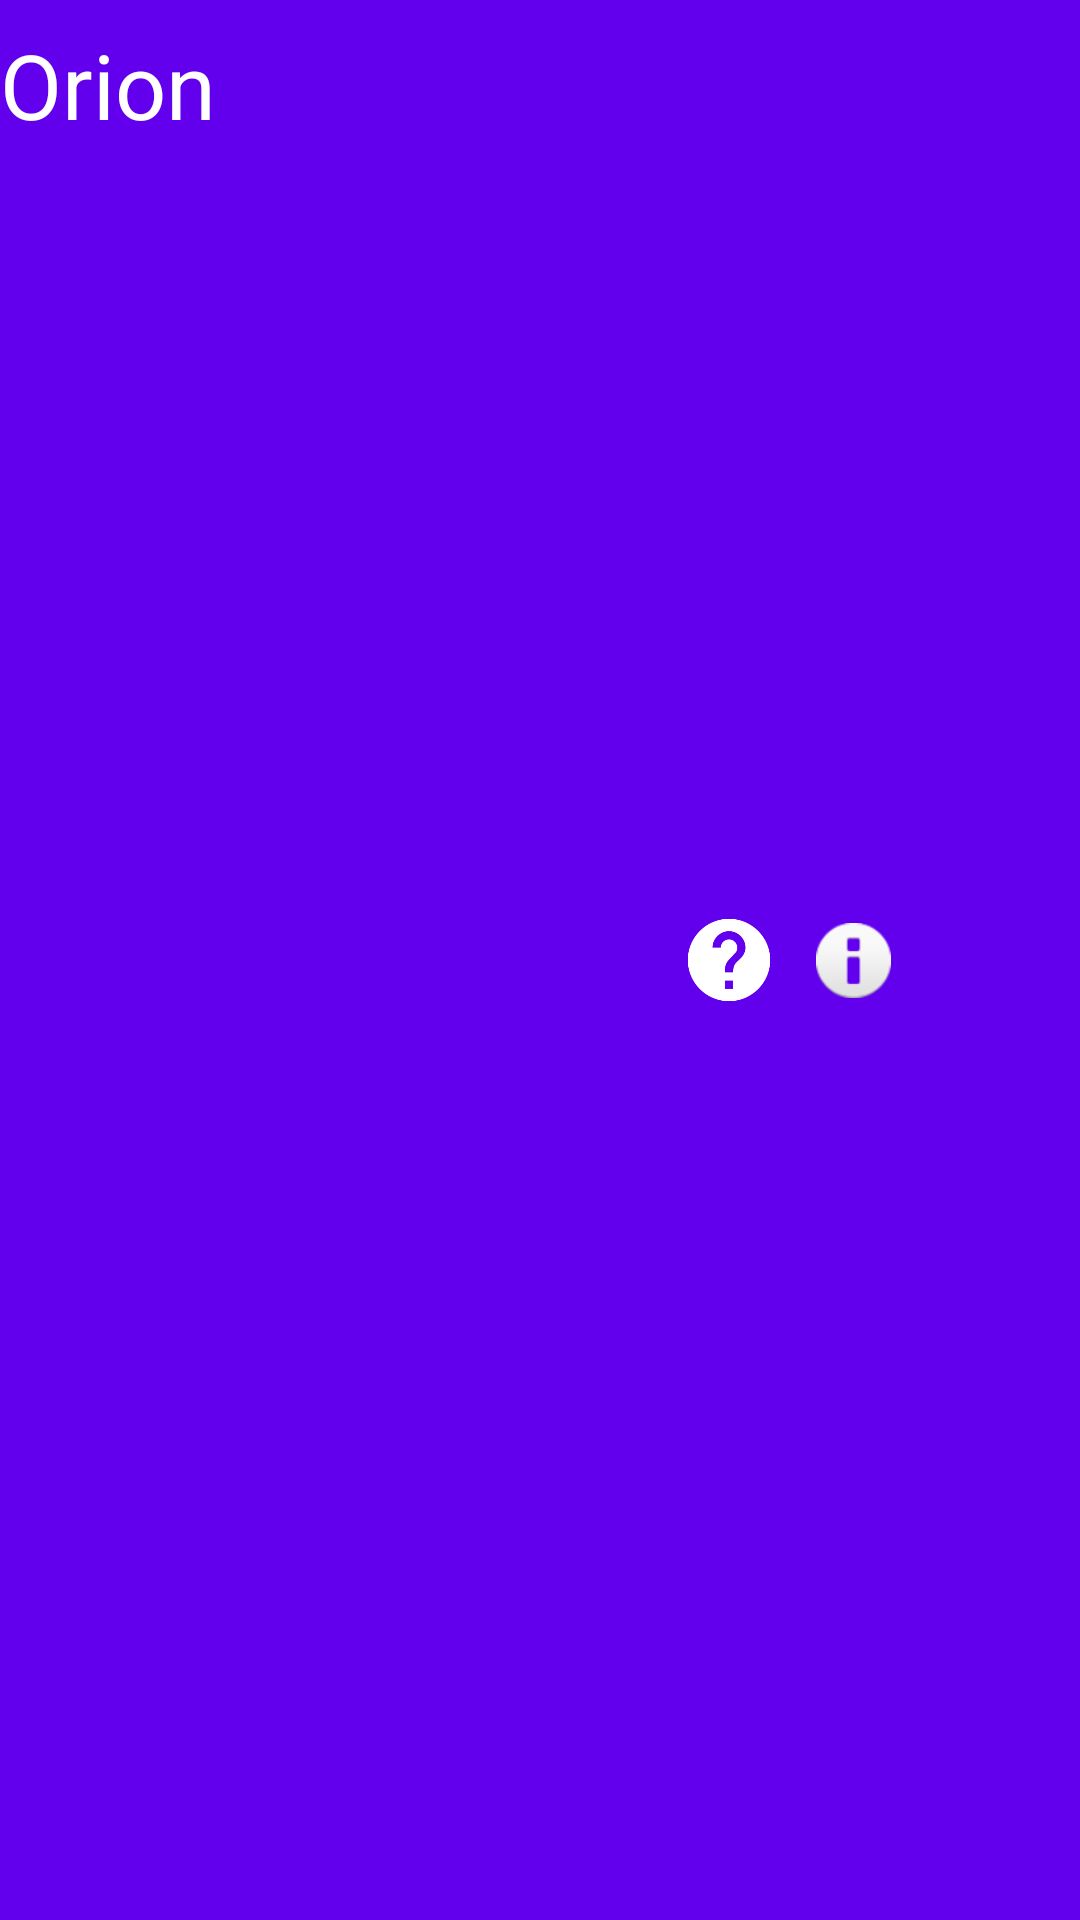

Where icons sit on this 1080 x 1920 app screen, as Rect(x1, y1, x2, y2):
aideblanc: Rect(688, 919, 770, 1001)
info: Rect(816, 923, 891, 998)
